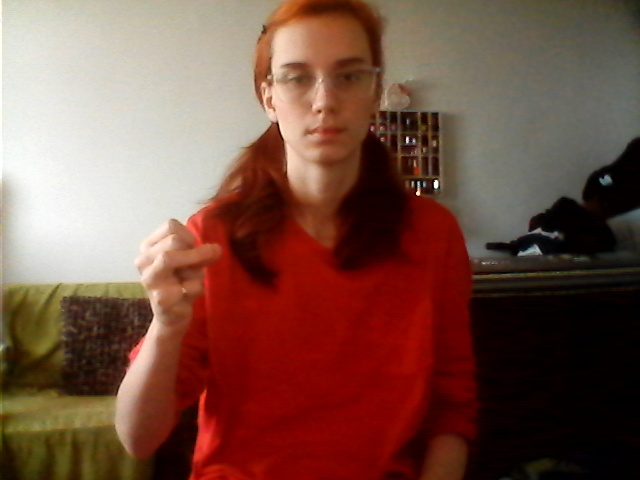r: (131, 212, 242, 331)
